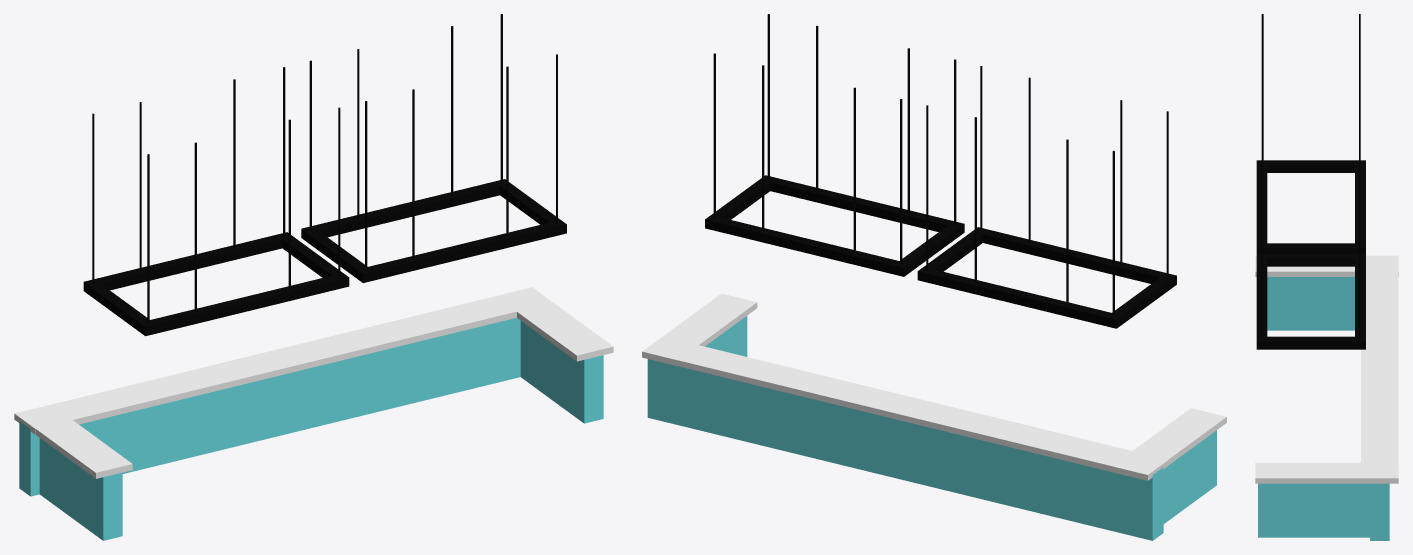
Rendered from bar table.fbx.
3 renders of one model, left to right at view 1: azimuth 30°, elevation 25°; view 2: azimuth 150°, elevation 25°; view 3: azimuth 270°, elevation 25°, orthographic. The views are drawn at different scales.
Visible parts, largest first — view 1: Bottom1, Top1, Ceiling Frame.002, Ceiling Frame, Bottom2.001, Bottom2, Top2.001, Top2; view 2: Bottom1, Top1, Ceiling Frame.002, Ceiling Frame, Bottom2.001, Top2.001, Top2, Bottom2; view 3: Top1, Bottom2, Bottom2.001, Ceiling Frame, Ceiling Frame.002, Top2, Bottom1, Top2.001, Rope.007, Rope.
Boxes of the visible parts, x1,y1,x2,y2 form: Bottom1: (19,317,520,496); Top1: (14,287,550,434); Ceiling Frame.002: (83,232,349,336); Ceiling Frame: (301,179,566,282); Bottom2.001: (39,438,122,540); Bottom2: (520,321,603,423); Top2.001: (15,406,132,478); Top2: (499,287,613,361); Bottom1: (647,359,1163,540); Top1: (643,336,1168,480); Ceiling Frame.002: (917,227,1176,328); Ceiling Frame: (705,175,964,276); Bottom2.001: (1163,430,1216,523); Top2.001: (1111,408,1226,480); Top2: (642,293,757,366); Bottom2: (705,316,747,356); Top1: (1361,255,1398,472); Bottom2: (1258,483,1369,537); Bottom2.001: (1267,277,1354,330); Ceiling Frame: (1256,254,1365,349); Ceiling Frame.002: (1256,160,1365,253); Top2: (1255,462,1398,483); Bottom1: (1370,483,1389,540); Top2.001: (1255,256,1398,276); Rope.007: (1261,189,1263,338); Rope: (1359,189,1360,338).
Size of the model in its own units: 801 by 551 by 218.
